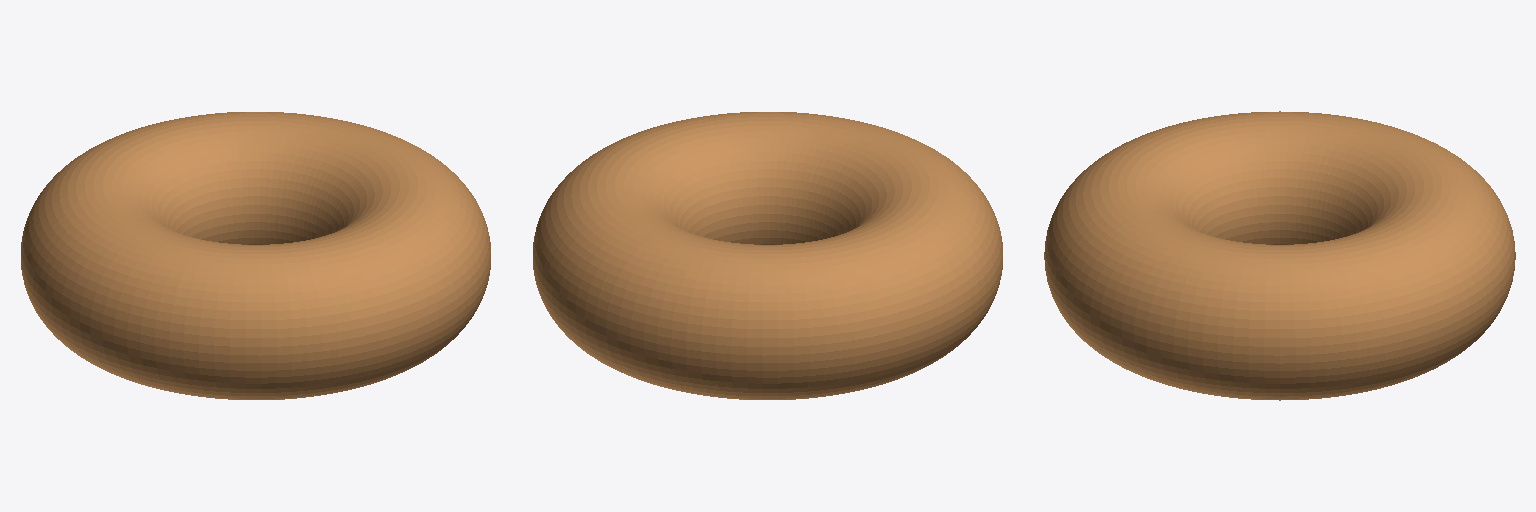
robot.urdf — Torus_medium:
<?xml version="1.0"?>
                <robot name="Torus_medium">
                <link name="base_link">
                    <visual>
                    <geometry>
                        <mesh filename="top_watertight_tiny.stl" scale="1.0 1.0 1.0"/>
                    </geometry>
                    <material name="object_material">
                        <color rgba="0.8 0.6 0.4 1.0"/>
                    </material>
                    </visual>
                    <collision>
                    <geometry>
                        <mesh filename="top_watertight_tiny.stl" scale="1.0 1.0 1.0"/>
                    </geometry>
                    </collision>
                    <inertial>
                    <mass value="1.0"/>
                    <inertia ixx="1.0" ixy="0.0" ixz="0.0" iyy="1.0" iyz="0.0" izz="1.0"/>
                    </inertial>
                </link>
                </robot>

--- Facts derived from the render (not from the file) ---
The picture shows the robot from 3 angles, left to right: view 1: azimuth 30°, elevation 25°; view 2: azimuth 150°, elevation 25°; view 3: azimuth 270°, elevation 25°; orthographic projection.
Model Torus_medium with 1 links and 0 joints (none), rooted at base_link, posed every joint at zero.
Visible links, largest first — view 1: base_link; view 2: base_link; view 3: base_link.
Boxes of the visible links, x1,y1,x2,y2 form: base_link: (21, 112, 490, 399); base_link: (533, 112, 1002, 399); base_link: (1044, 111, 1515, 400).
Size in the robot's own frame: 0.0804 by 0.0804 by 0.0265 metres.
1 mesh visuals loaded from 1 distinct referenced files (1 binary STL).